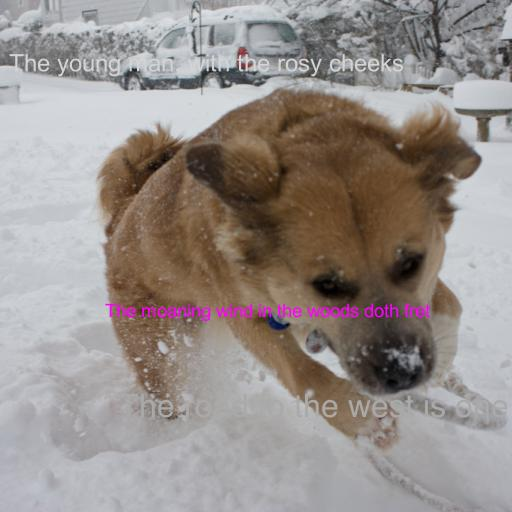Arial: (8, 54, 404, 77), (104, 303, 430, 322)
SF Pro: (119, 393, 509, 418)
